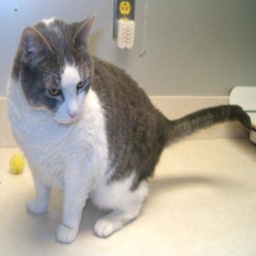cat: (10, 22, 245, 239)
